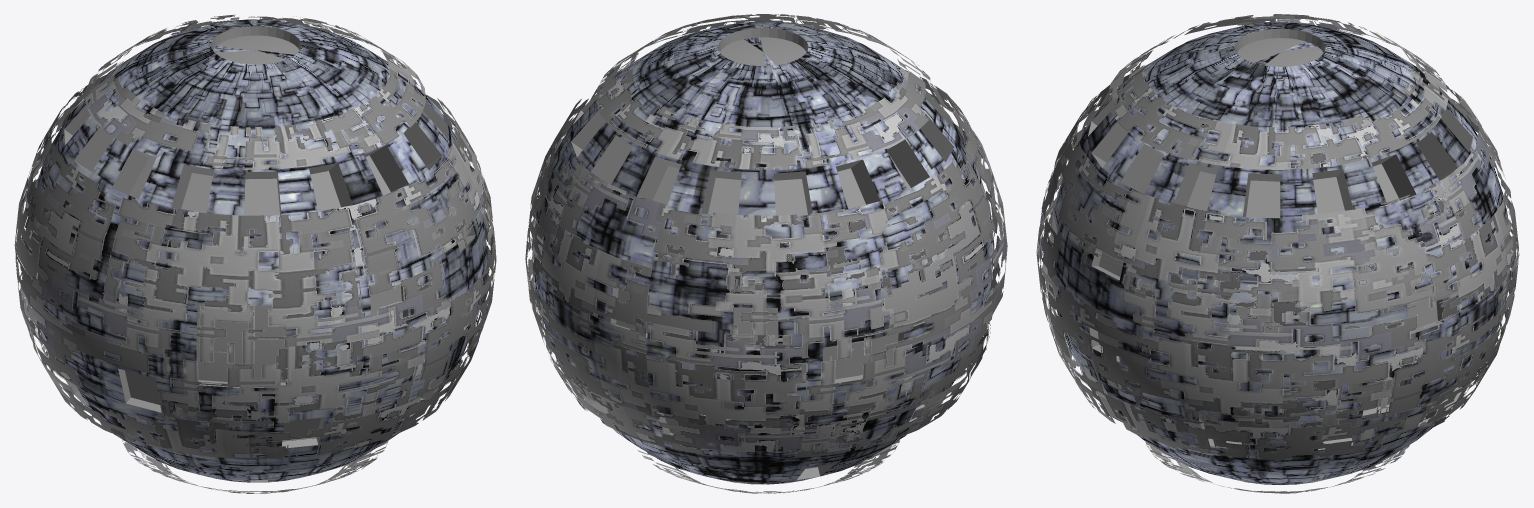
File: JQgxk1074xlktrv.FBX
3 views of the same model, side by side, from view 1: azimuth 30°, elevation 25°; view 2: azimuth 150°, elevation 25°; view 3: azimuth 270°, elevation 25° (orthographic).
Parts seen in each view (by area): view 1: Sphere002, Sphere001; view 2: Sphere002, Sphere001; view 3: Sphere002, Sphere001.
Boxes of the visible parts, left/top/right/bottom form: Sphere002: left=14, top=14, right=496, bottom=493; Sphere001: left=25, top=20, right=487, bottom=482; Sphere002: left=525, top=14, right=1007, bottom=493; Sphere001: left=532, top=21, right=994, bottom=484; Sphere002: left=1036, top=14, right=1519, bottom=493; Sphere001: left=1050, top=22, right=1511, bottom=484.
Size of the model in its own units: 102 by 96.81 by 102.
Materials: 3 (2 with a texture image).
